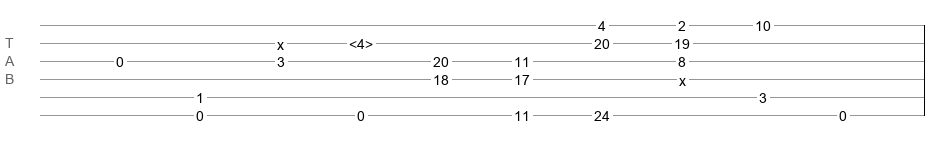0: (116, 54, 124, 64), (196, 108, 204, 118), (357, 108, 365, 118), (839, 108, 847, 118)
1: (196, 90, 204, 100)
10: (755, 18, 771, 28)
11: (514, 54, 530, 64), (514, 108, 530, 118)
17: (514, 72, 530, 82)
18: (433, 72, 449, 82)
19: (674, 36, 690, 46)
2: (678, 18, 686, 28)
20: (433, 54, 449, 64), (594, 36, 610, 46)
24: (594, 108, 610, 118)
3: (277, 54, 285, 64), (759, 90, 767, 100)
4: (598, 18, 606, 28)
8: (678, 54, 686, 64)
harmonic: (349, 36, 373, 46)
x: (277, 37, 284, 45), (679, 73, 686, 81)
